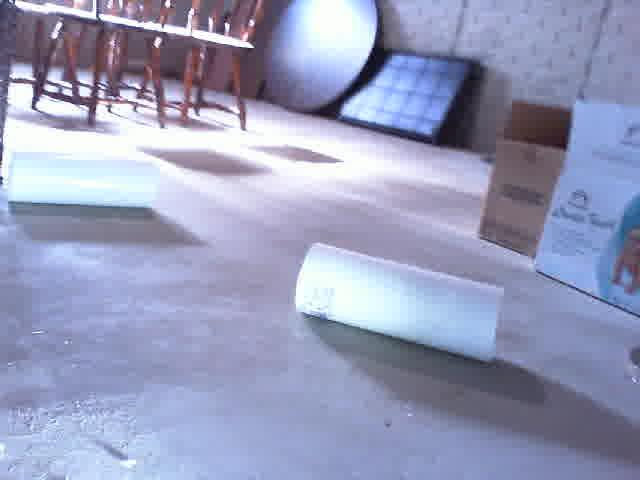coral: (295, 243, 503, 362), (7, 150, 158, 209)
